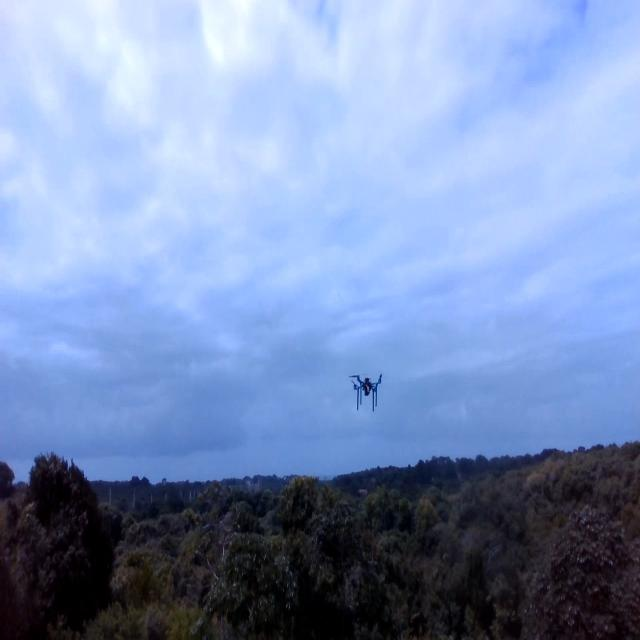-uav-: (345, 363, 387, 419)
